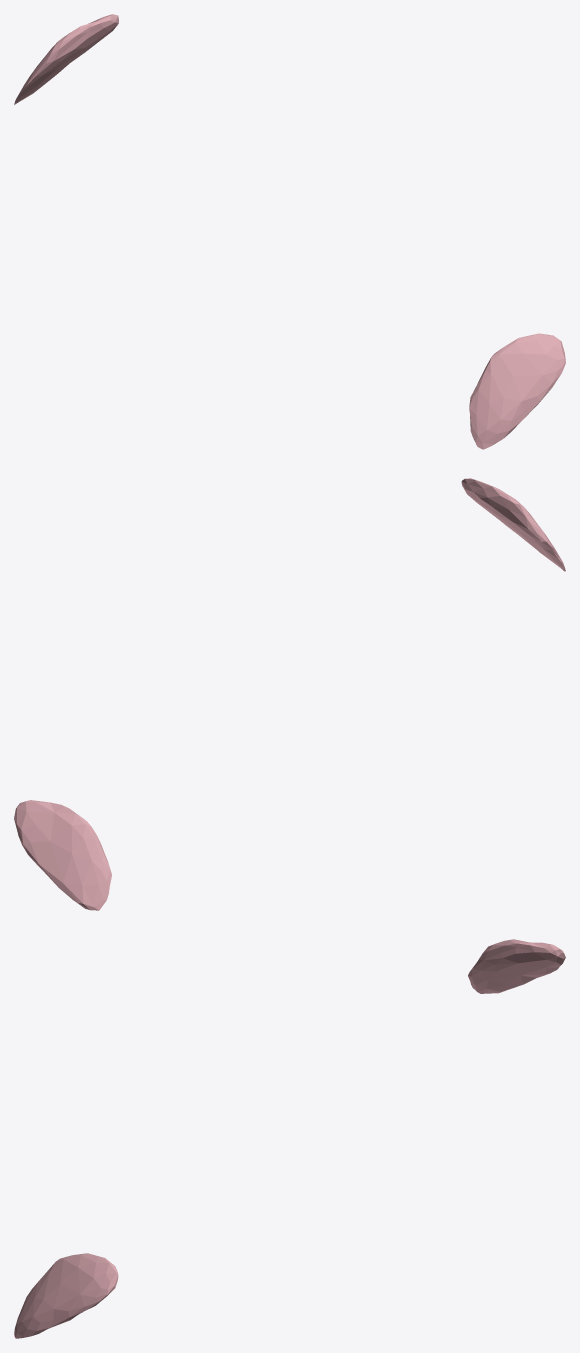
3 renders of one model, top to bottom at view 1: azimuth 30°, elevation 25°; view 2: azimuth 150°, elevation 25°; view 3: azimuth 330°, elevation 25°, orthographic.
Visible parts, largest first — view 1: 27.obj; view 2: 27.obj; view 3: 27.obj.
Boxes of the visible parts, bbox=[...] form: 27.obj: bbox=[14, 14, 565, 449]; 27.obj: bbox=[14, 478, 565, 910]; 27.obj: bbox=[14, 939, 565, 1338].
Bounding box in the file's own units: 641 × 542 × 5406.
